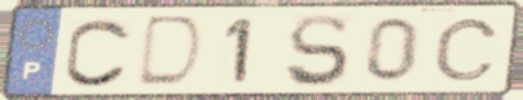0: (360, 14, 425, 85)
1: (221, 15, 254, 87)
C: (60, 15, 135, 90), (431, 16, 503, 84)
D: (132, 13, 208, 91)
S: (283, 11, 353, 90)
